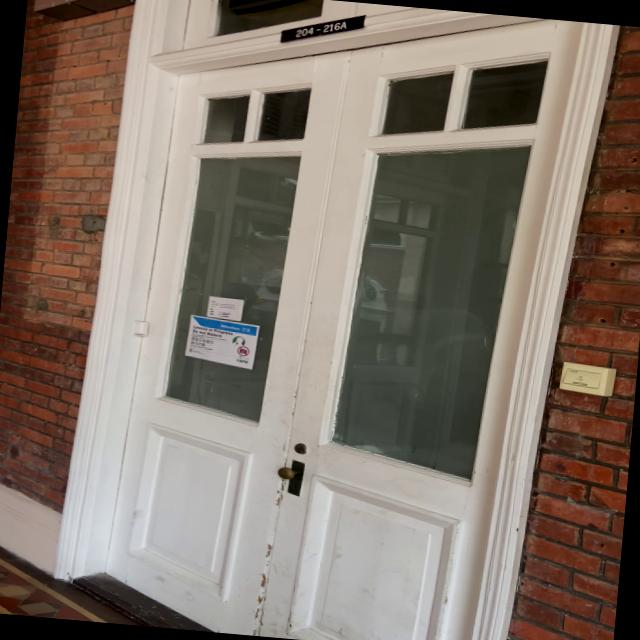room204: (276, 2, 370, 54)
